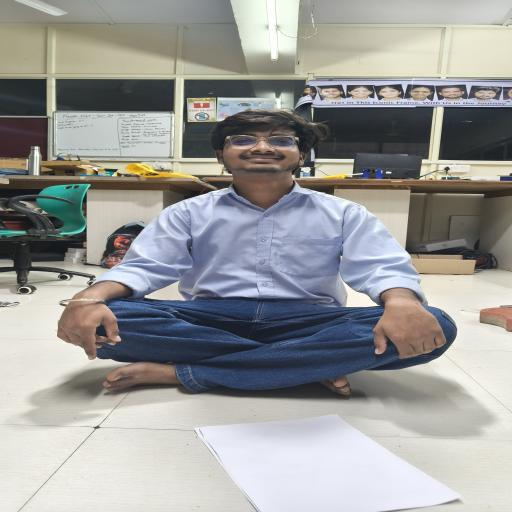survivor: (56, 108, 458, 397)
